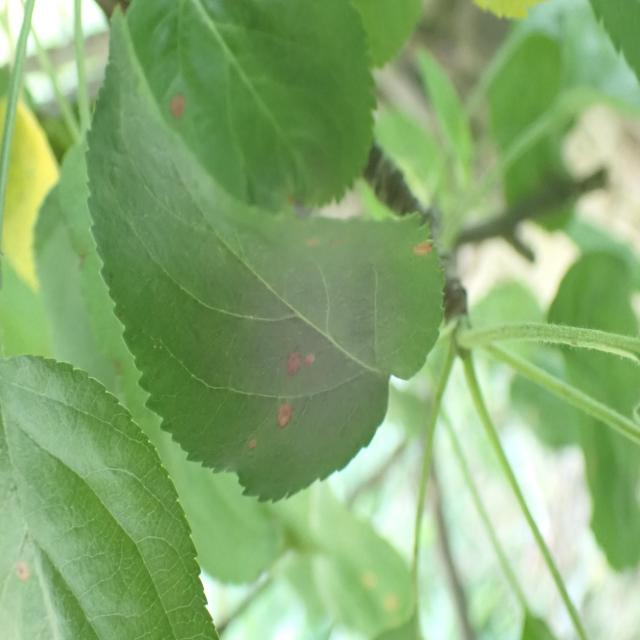Black Rot: (157, 71, 203, 151), (262, 388, 314, 451), (281, 338, 325, 396), (405, 214, 441, 269)
